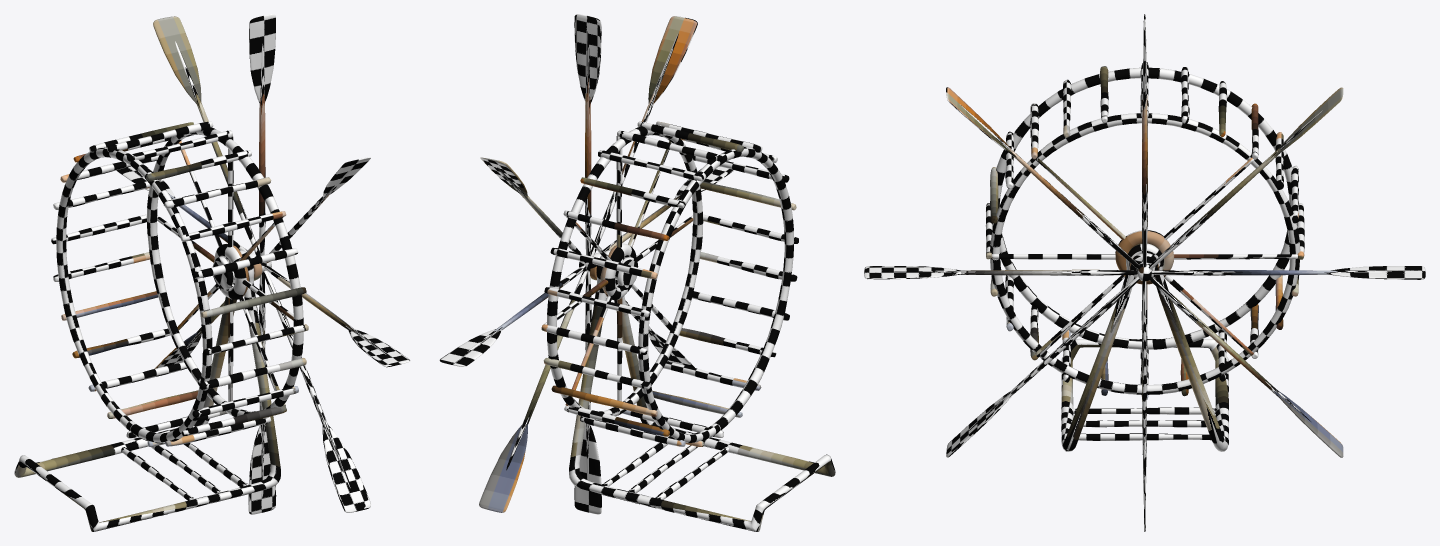
File: SpinningWheel_R.fbx
The picture shows the model from 3 angles, left to right: view 1: azimuth 30°, elevation 25°; view 2: azimuth 150°, elevation 25°; view 3: azimuth 270°, elevation 25°; orthographic projection. The views are drawn at different scales.
Parts seen in each view (by area): view 1: SpinningWheel, SpinningWheel_Base_R; view 2: SpinningWheel, SpinningWheel_Base_R; view 3: SpinningWheel, SpinningWheel_Base_R.
Boxes of the visible parts, x1,y1,x2,y2 form: SpinningWheel: [51, 14, 410, 514]; SpinningWheel_Base_R: [14, 250, 280, 531]; SpinningWheel: [439, 14, 798, 514]; SpinningWheel_Base_R: [569, 250, 835, 531]; SpinningWheel: [864, 14, 1425, 531]; SpinningWheel_Base_R: [1061, 243, 1228, 451].
Size of the model in its own units: 350 by 743 by 743.
